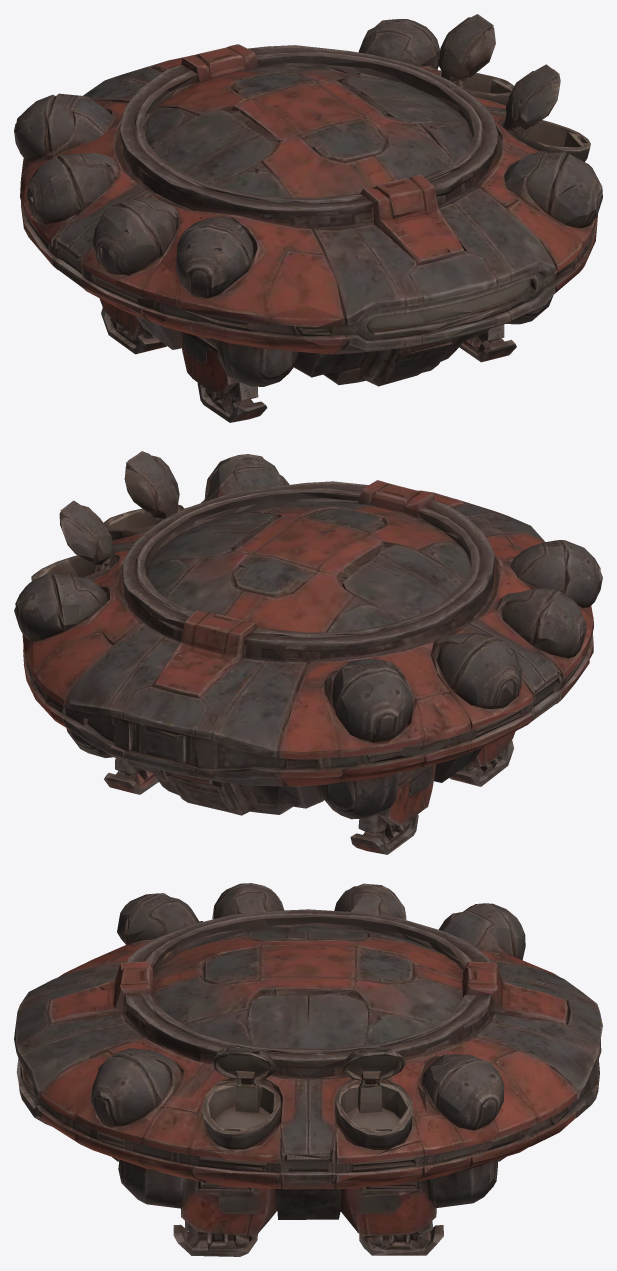
The model's file is tender.glb.
The picture shows the model from 3 angles, top to bottom: view 1: azimuth 30°, elevation 25°; view 2: azimuth 150°, elevation 25°; view 3: azimuth 270°, elevation 25°; orthographic projection. The views are drawn at different scales.
Parts seen in each view (by area): view 1: Mesh_0; view 2: Mesh_0; view 3: Mesh_0.
Part boxes in pixels (box(x1,y1,x2,y2)): Mesh_0: box(14, 14, 602, 422); Mesh_0: box(14, 451, 602, 854); Mesh_0: box(14, 883, 602, 1256).
Bounding box in the file's own units: 3.69 × 1.81 × 4.
Materials: 1 (1 with a texture image).
